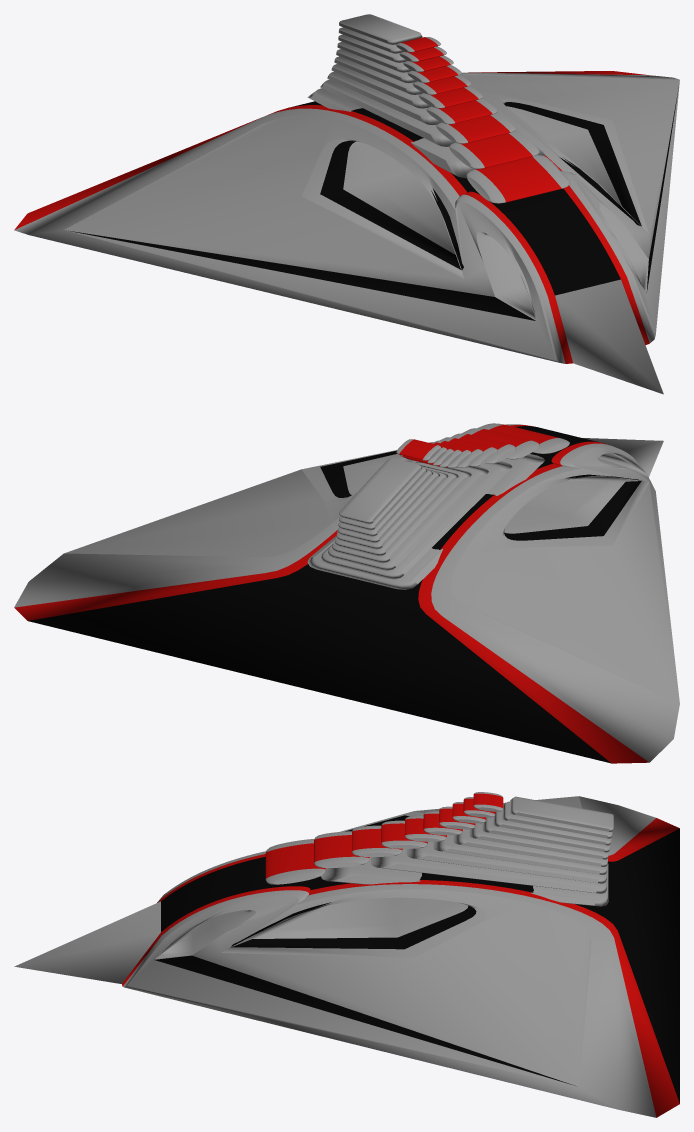
File: spaceship.dae
The picture shows the model from 3 angles, top to bottom: view 1: azimuth 30°, elevation 25°; view 2: azimuth 150°, elevation 25°; view 3: azimuth 270°, elevation 25°; orthographic projection. The views are drawn at different scales.
Parts seen in each view (by area): view 1: Text; view 2: Text; view 3: Text.
Part boxes in pixels (x1=…): Text: x1=14, y1=14, x2=679, y2=394; Text: x1=14, y1=423, x2=679, y2=763; Text: x1=14, y1=792, x2=679, y2=1117.
Size of the model in its own units: 4.54 by 4.2 by 1.17.
